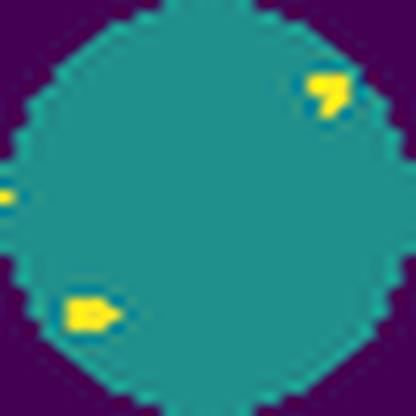Loc: (302, 67, 348, 120), (64, 296, 126, 334)
